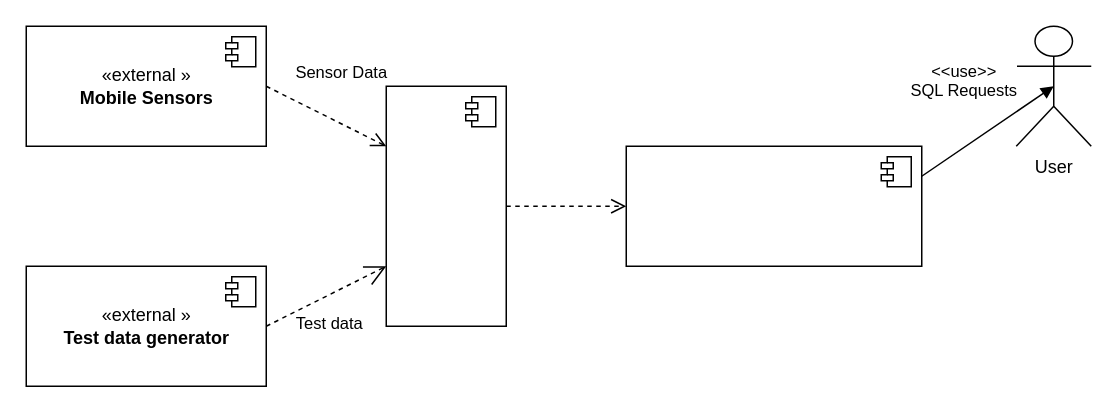
Image size: 1118x413. Some labels were removed from this diagram. Here are the shapes that lost their labels. From the top down, the centre of each, then its label:
the point at 445,205: «Messengers » Kafka or Pulsar
the point at 773,205: «System» Lambda Architecture
